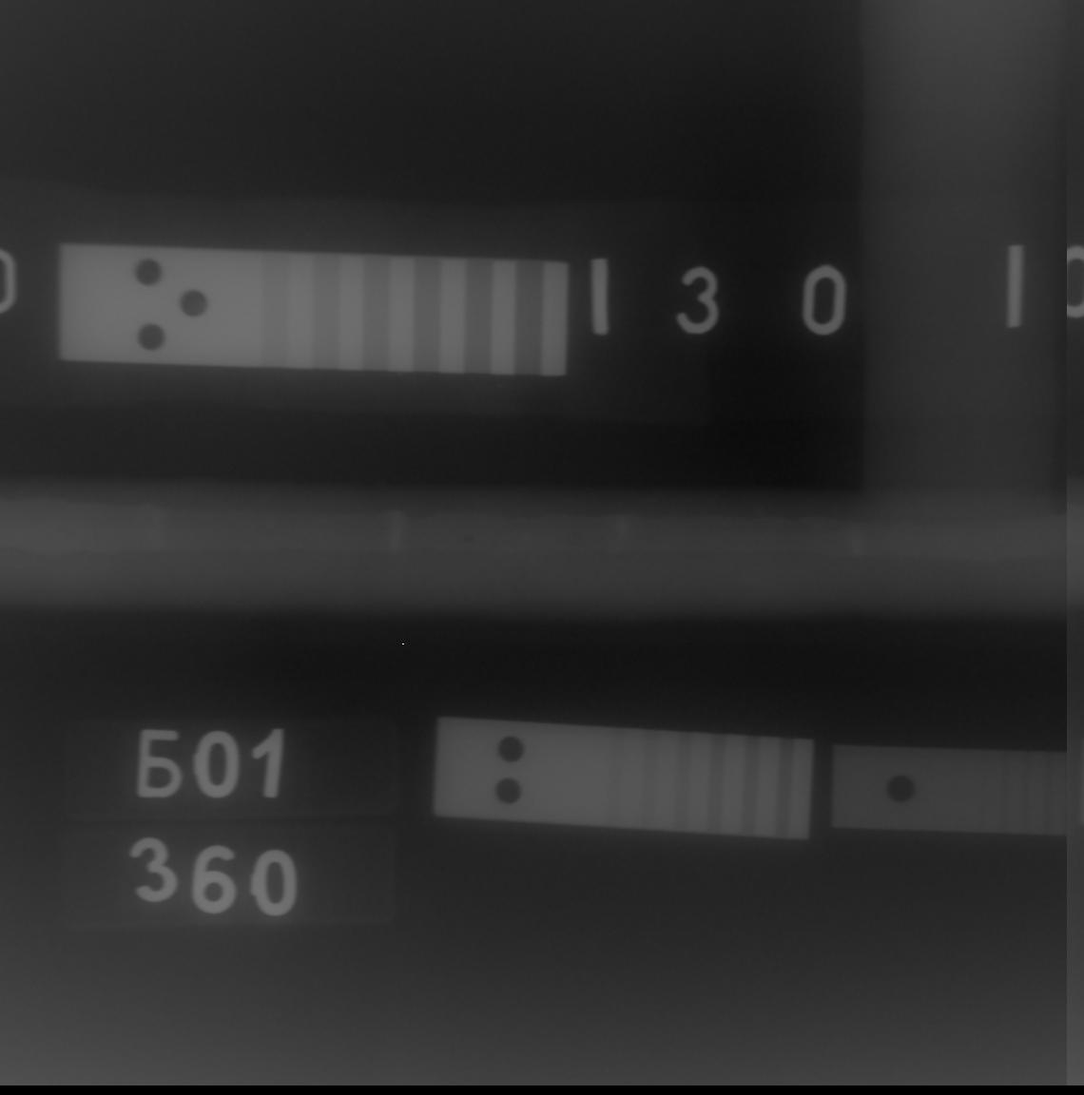Pore/Porosity: (83, 522, 95, 526)
